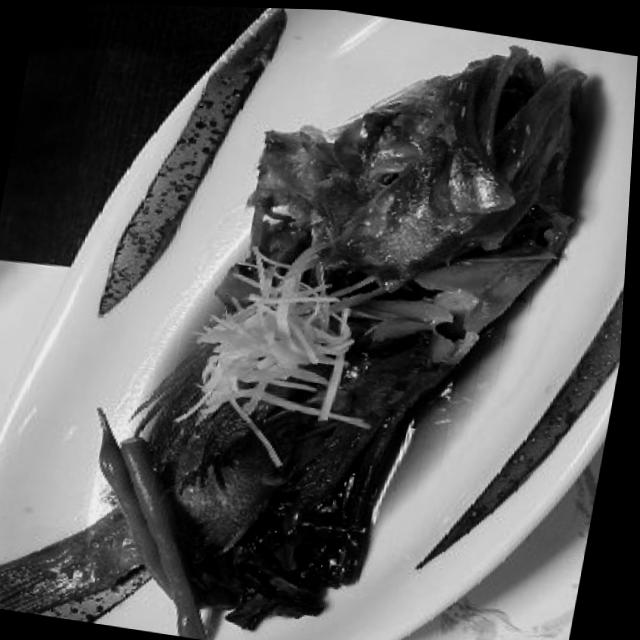熟制海鲜: (175, 5, 640, 640)
